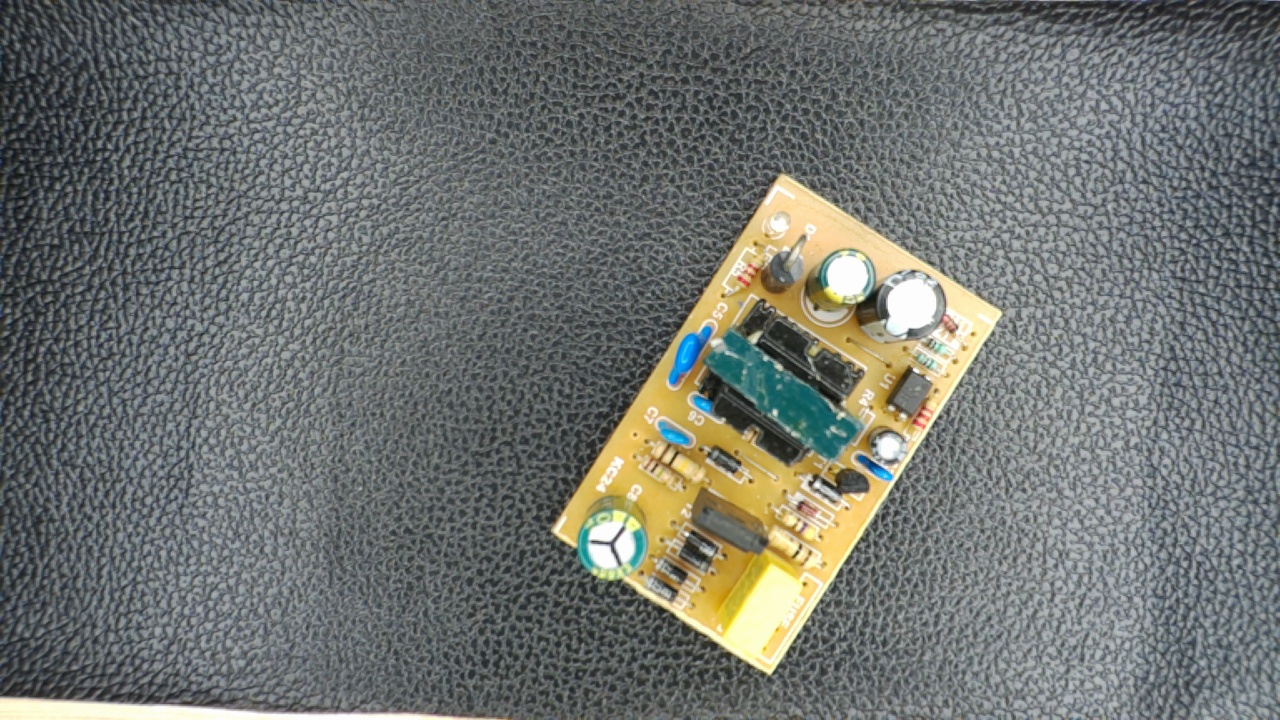hv_capacitor: (576, 497, 648, 585)
mov: (668, 323, 723, 390)
optocoupler: (882, 365, 932, 422)
